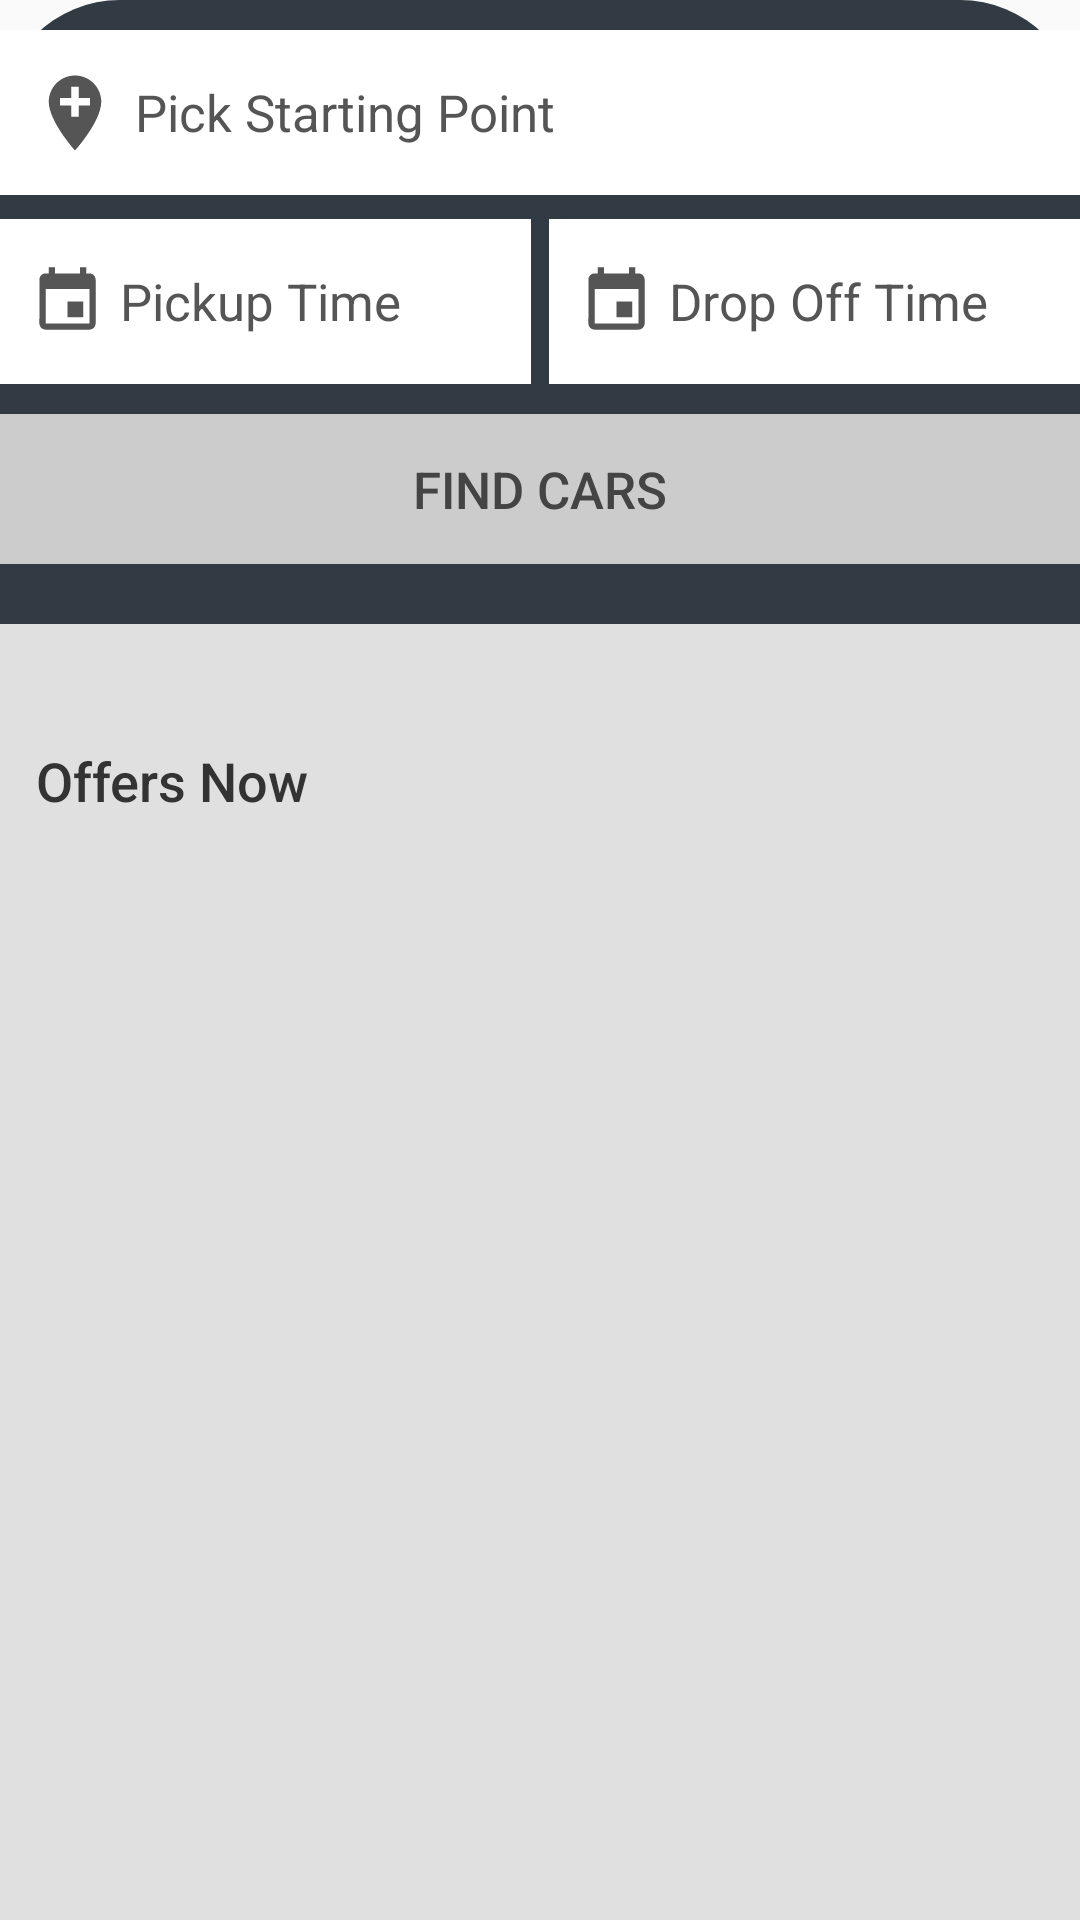

Screen size 1080 x 1920. Icon name, then its center in pixels as [x,y]:
event: [67,298], [616,298]
location: [75,112]
